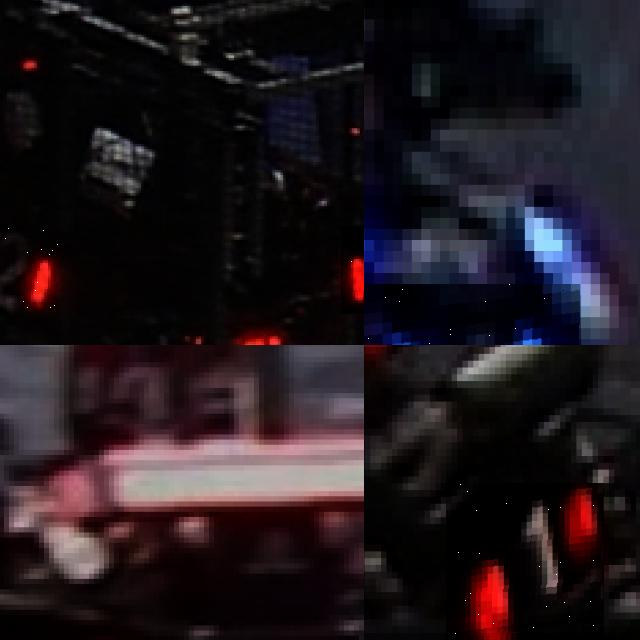B4: (364, 284, 581, 345)
R1: (446, 483, 604, 640)
R2: (0, 224, 59, 307), (340, 225, 364, 314)
